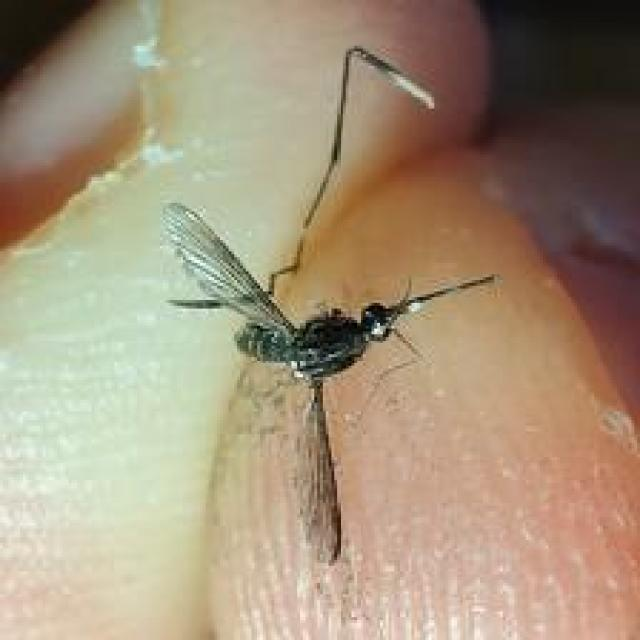Aedes albopictus: (160, 44, 500, 564)
